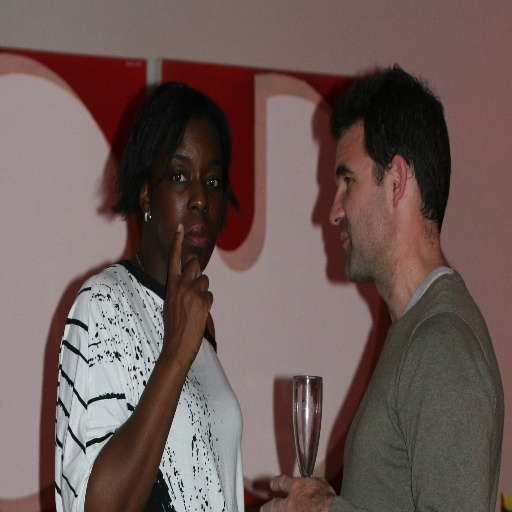hand: (161, 222, 213, 365), (258, 474, 336, 511)
